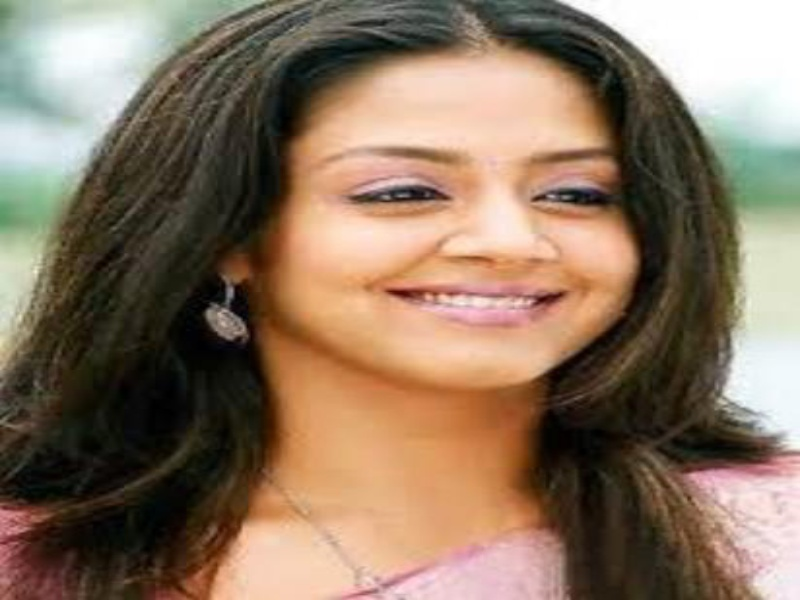TsisyArotava: (179, 9, 736, 429)
